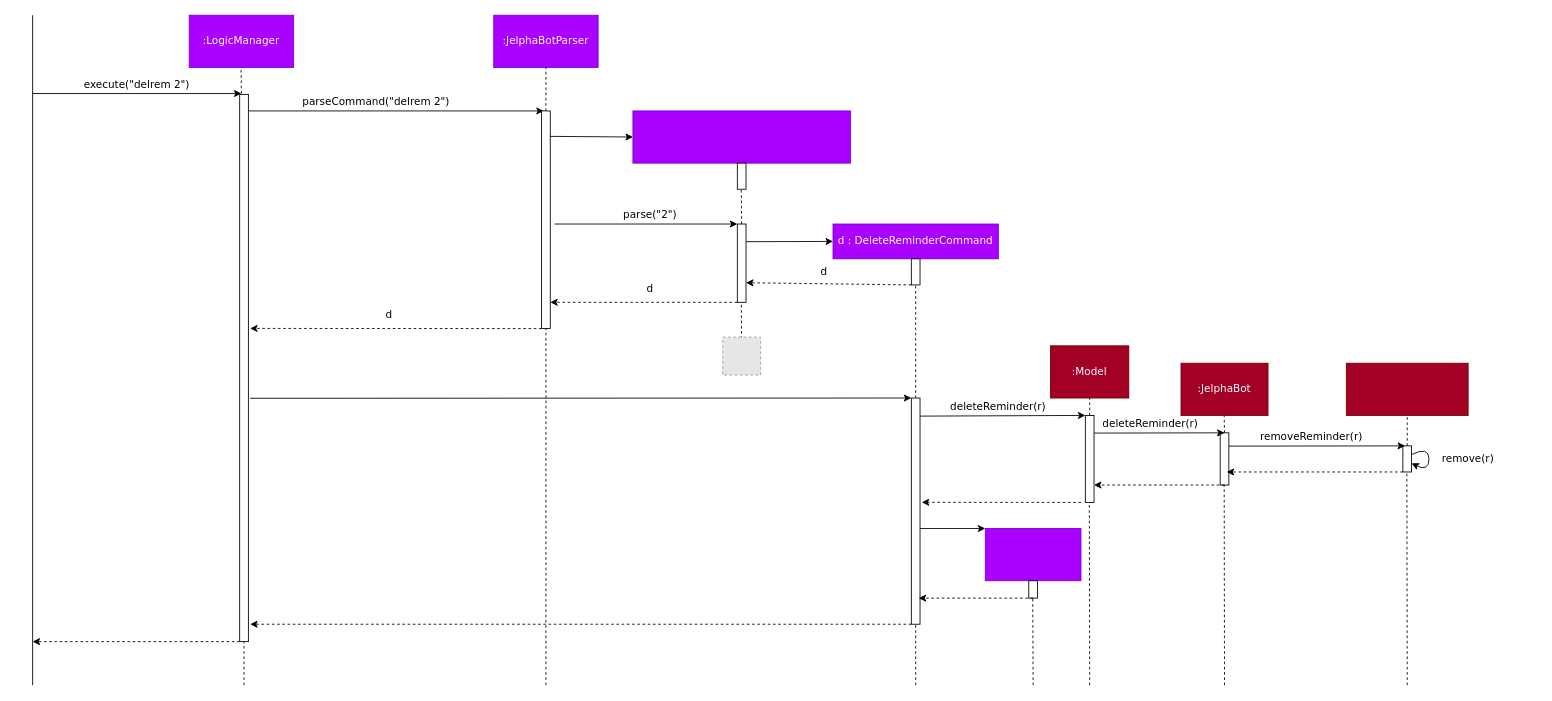
Some shapes in this 1552 by 701 pixel diagram are drawn without their labels. Grey dashed boxes stand in for pictures. Each missing label, with the centre of its shape:
":CommandResult" belongs at (x=1032, y=554).
":DeleteReminderCommandParser" belongs at (x=741, y=136).
":UniqueReminderList" belongs at (x=1406, y=388).
